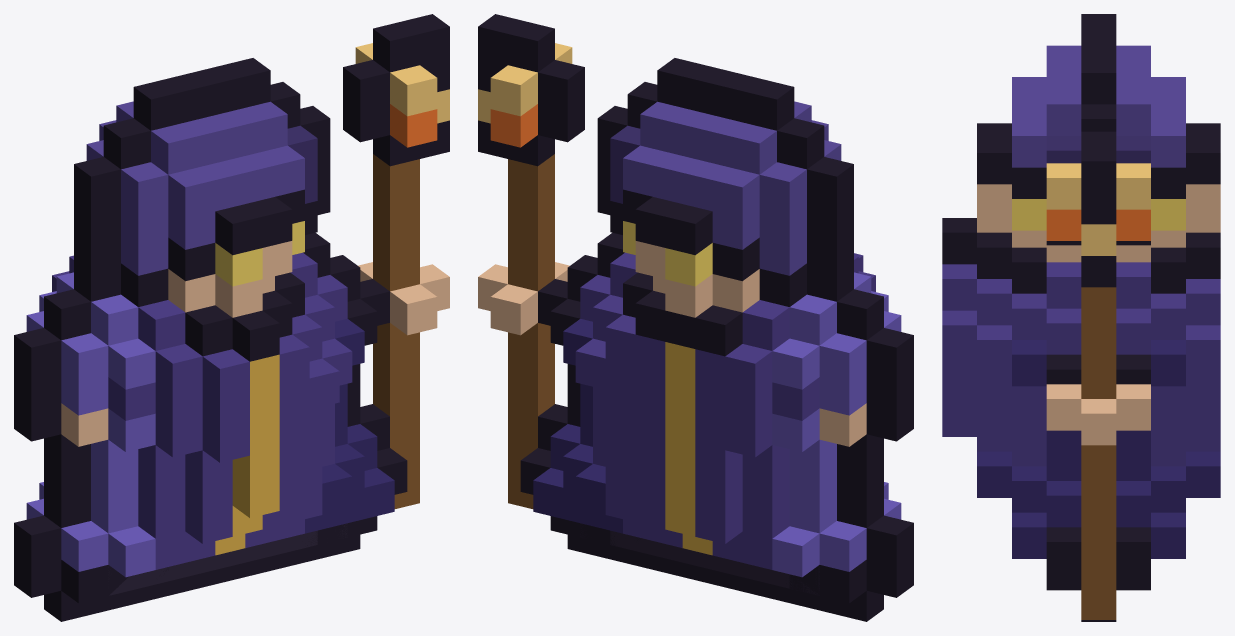
Rendered from player.glb.
3 views of the same model, side by side, from view 1: azimuth 30°, elevation 25°; view 2: azimuth 150°, elevation 25°; view 3: azimuth 270°, elevation 25° (orthographic).
Visible parts, largest first — view 1: f0, f4, f2; view 2: f0, f2, f4; view 3: f0, f2, f4.
Part boxes in pixels (x1=…): f0: x1=14, y1=14, x2=449, y2=613; f4: x1=31, y1=348, x2=317, y2=595; f2: x1=31, y1=407, x2=394, y2=621; f0: x1=478, y1=14, x2=913, y2=599; f2: x1=533, y1=327, x2=896, y2=621; f4: x1=605, y1=331, x2=896, y2=595; f0: x1=942, y1=14, x2=1220, y2=619; f2: x1=1012, y1=481, x2=1185, y2=621; f4: x1=942, y1=357, x2=976, y2=436.
Bounding box in the file's own units: 0.875 × 1 × 0.5.
